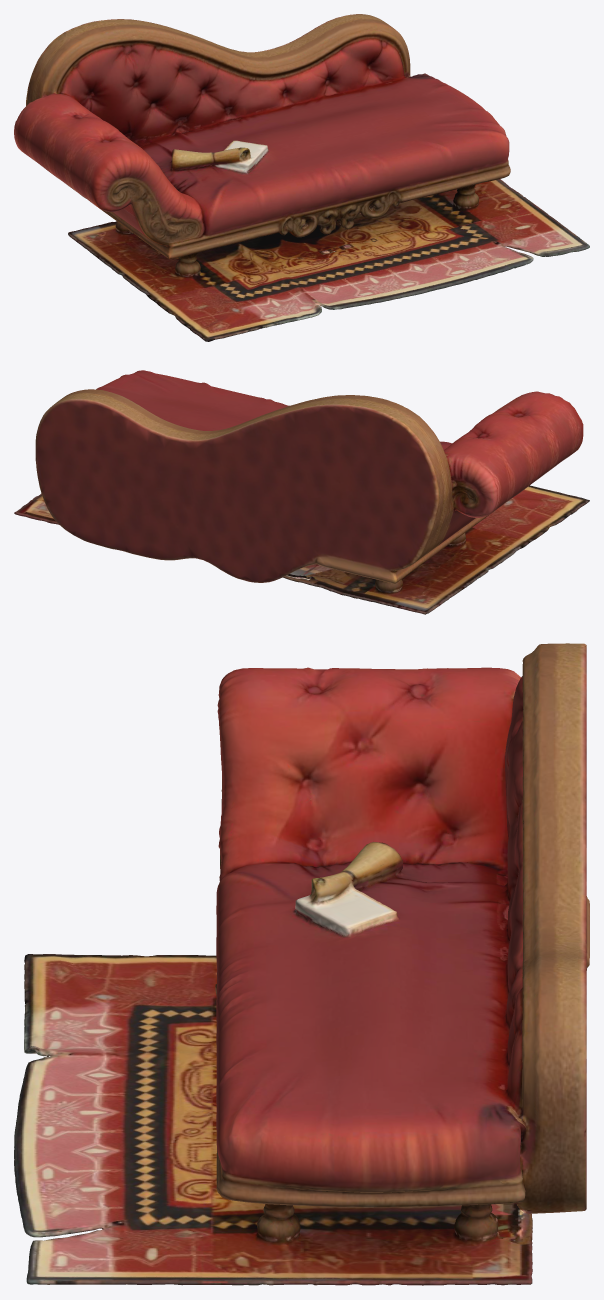
Rendered from sofa.fbx.
3 renders of one model, top to bottom at view 1: azimuth 30°, elevation 25°; view 2: azimuth 150°, elevation 25°; view 3: azimuth 270°, elevation 25°, orthographic. The views are drawn at different scales.
Visible parts, largest first — view 1: Mesh1.0; view 2: Mesh1.0; view 3: Mesh1.0.
Part boxes in pixels (<box>): Mesh1.0: <box>14,14,589,341</box>; Mesh1.0: <box>14,370,589,614</box>; Mesh1.0: <box>14,643,589,1285</box>.
Size of the model in its own units: 192 by 81.14 by 125.
Materials: 1 (1 with a texture image).
